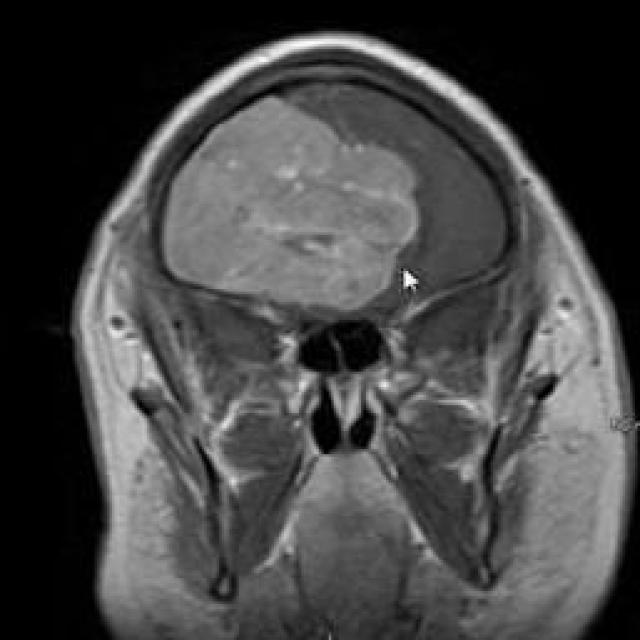Tumor: (159, 98, 426, 312)
